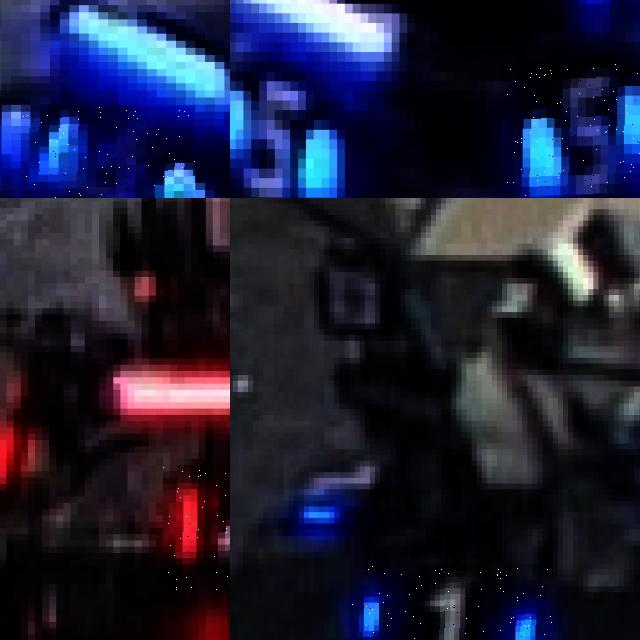B1: (349, 563, 552, 640)
B4: (20, 104, 195, 198)
B5: (501, 62, 640, 198), (230, 62, 337, 198)
R4: (162, 465, 230, 590)
